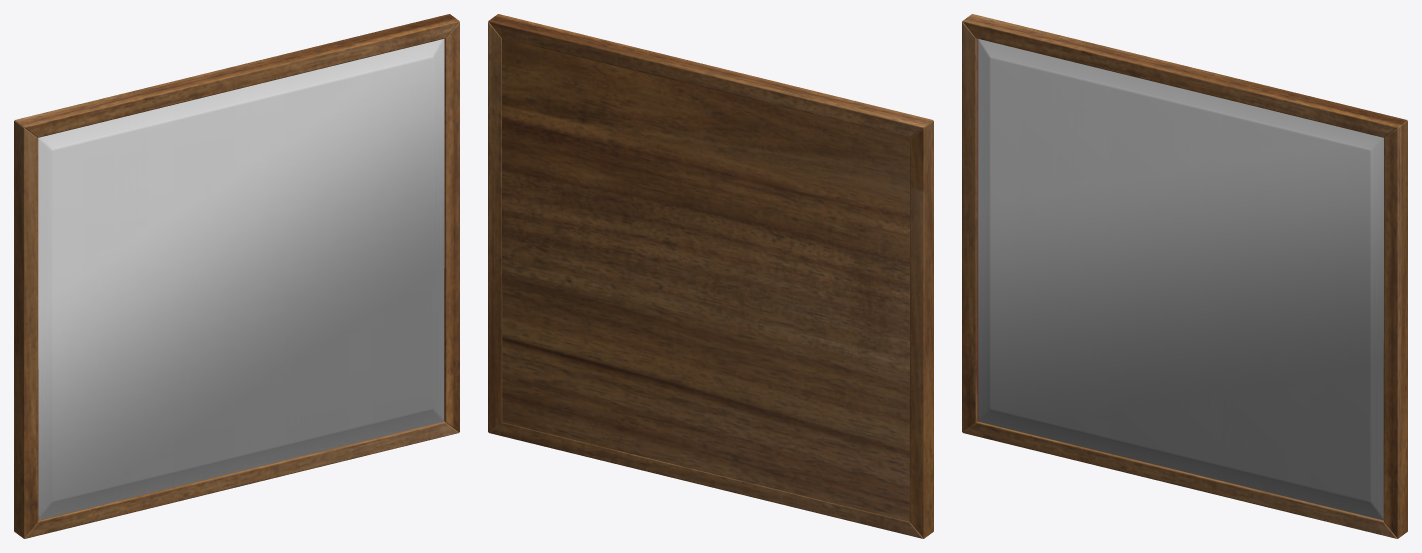
File: B07B4Z2KMN.glb
The picture shows the model from 3 angles, left to right: view 1: azimuth 30°, elevation 25°; view 2: azimuth 150°, elevation 25°; view 3: azimuth 330°, elevation 25°; orthographic projection.
Parts seen in each view (by area): view 1: B07B4Z2KMN; view 2: B07B4Z2KMN; view 3: B07B4Z2KMN.
Part boxes in pixels (box(x1,y1,x2,y2)): B07B4Z2KMN: box(14, 14, 459, 538); B07B4Z2KMN: box(488, 14, 933, 538); B07B4Z2KMN: box(962, 14, 1407, 538).
Size of the model in its own units: 1.04 by 0.9398 by 0.0432.
1 material, 1 textured.
